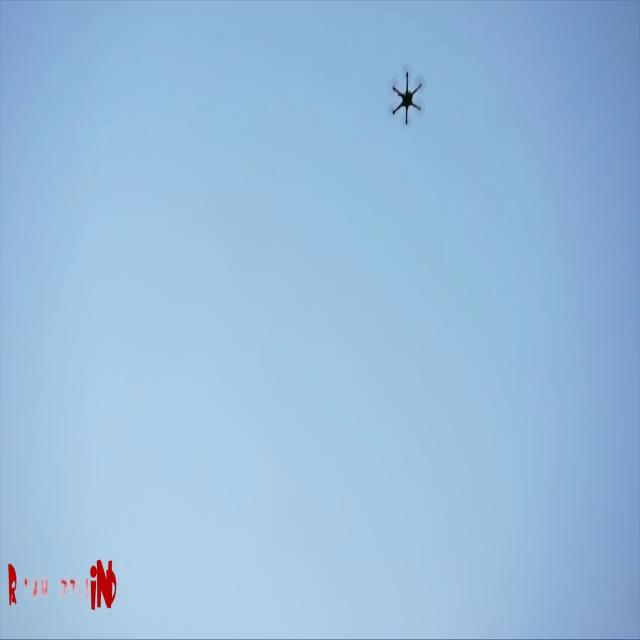drone: (390, 65, 427, 125)
